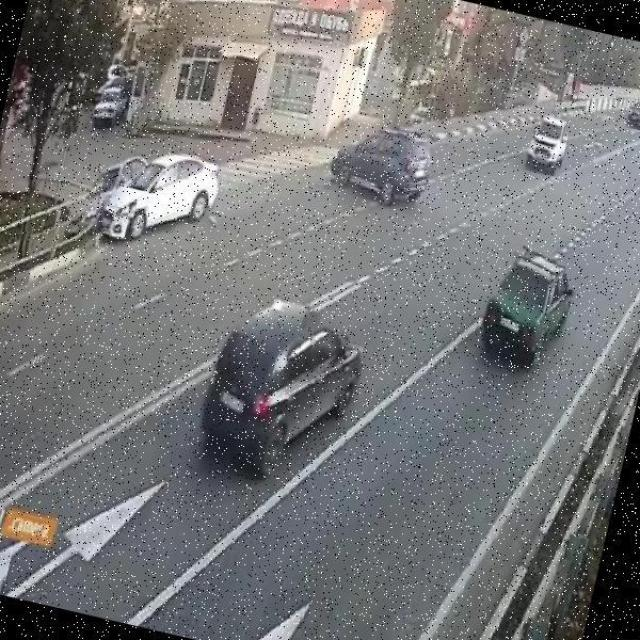accident: (82, 168, 164, 245)
